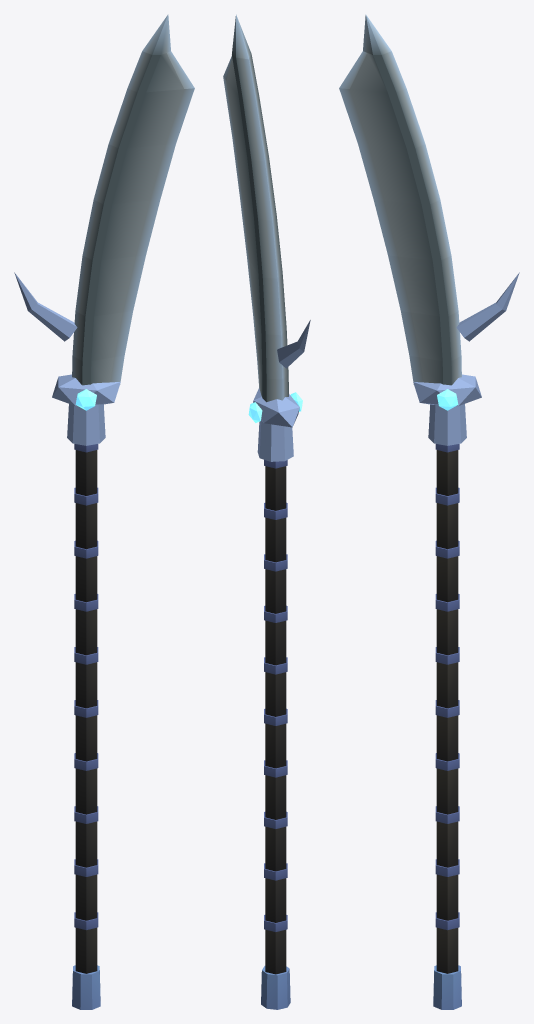
File: polearm_rare.glb
The picture shows the model from 3 angles, left to right: view 1: azimuth 90°, elevation 25°; view 2: azimuth 210°, elevation 25°; view 3: azimuth 270°, elevation 25°; orthographic projection. The views are drawn at different scales.
Parts seen in each view (by area): view 1: polearm_rare_export; view 2: polearm_rare_export; view 3: polearm_rare_export.
Boxes of the visible parts, x1,y1,x2,y2 form: polearm_rare_export: (14,14,194,1009); polearm_rare_export: (223,14,310,1009); polearm_rare_export: (339,14,519,1009).
Bounding box in the file's own units: 12.13 × 227 × 37.52.
